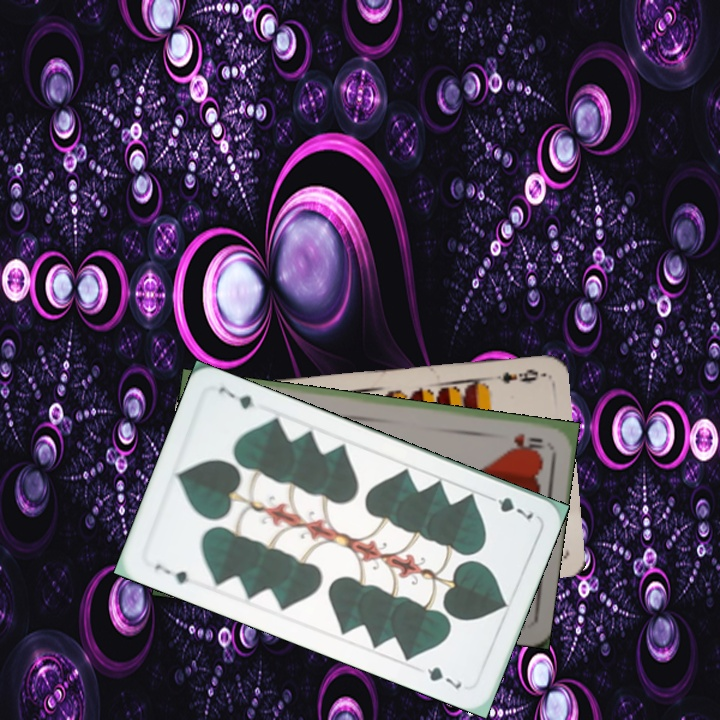E9: (492, 364, 545, 386)
G7: (481, 491, 537, 522), (150, 560, 192, 587)
HO: (510, 429, 548, 452)
